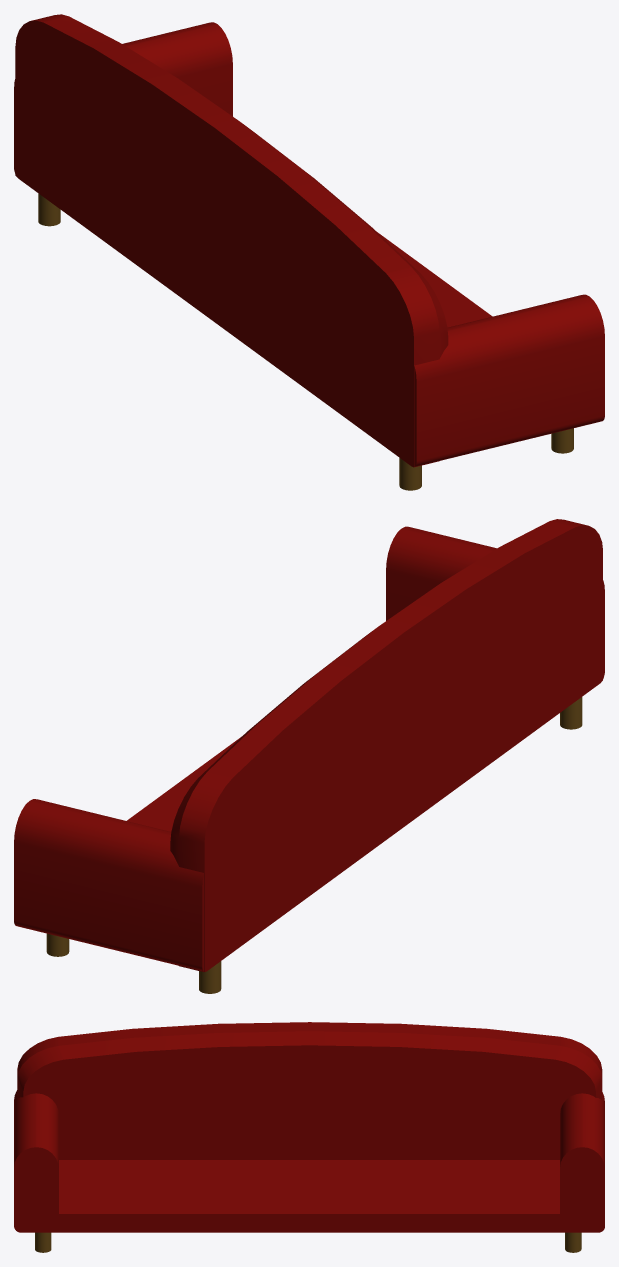
File: Sofa.fbx
3 views of the same model, one above another, from view 1: azimuth 30°, elevation 25°; view 2: azimuth 150°, elevation 25°; view 3: azimuth 270°, elevation 25° (orthographic). The views are drawn at different scales.
Visible parts, largest first — view 1: Cube; view 2: Cube; view 3: Cube.
Boxes of the visible parts, x1,y1,x2,y2 form: Cube: (14, 14, 604, 490); Cube: (14, 519, 604, 993); Cube: (14, 1022, 604, 1252).
Bounding box in the file's own units: 168 × 194 × 621.
